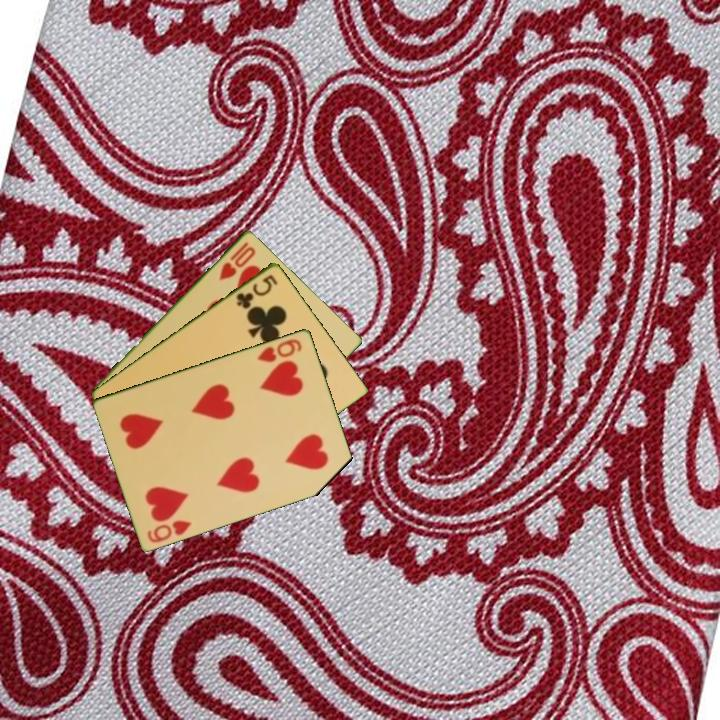10h: (215, 238, 258, 283)
5c: (233, 270, 280, 312)
6h: (254, 335, 305, 365), (144, 516, 195, 545)
